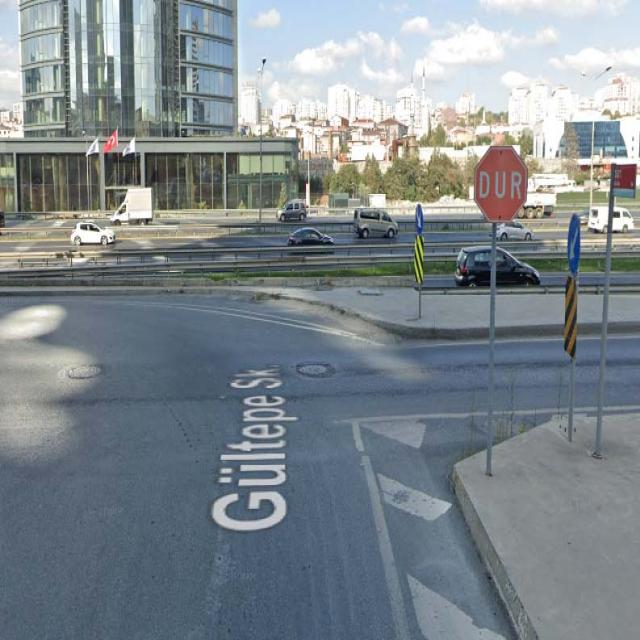dur: (474, 146, 527, 224)
